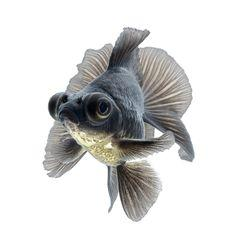goldfish: (43, 36, 204, 208)
